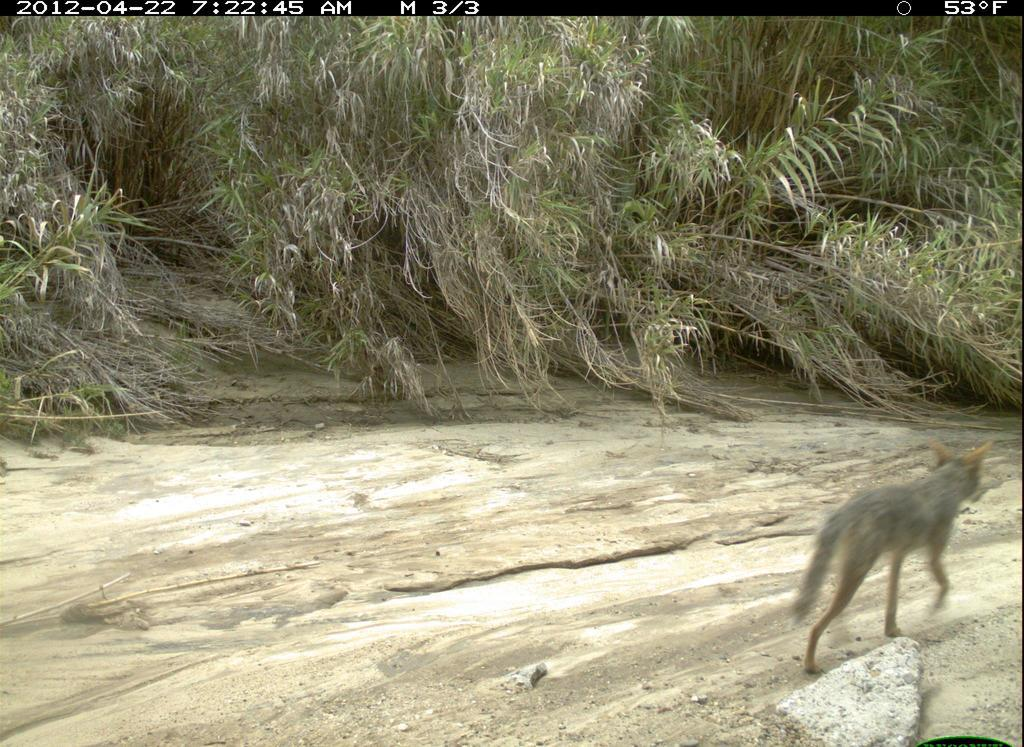coyote: (785, 437, 999, 681)
